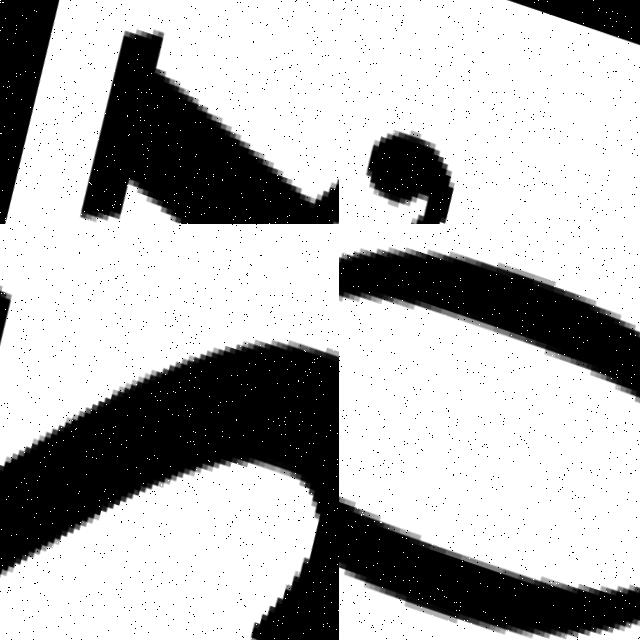0: (339, 224, 640, 640)
2: (0, 224, 339, 640)
K: (0, 0, 339, 224), (339, 22, 640, 224)
